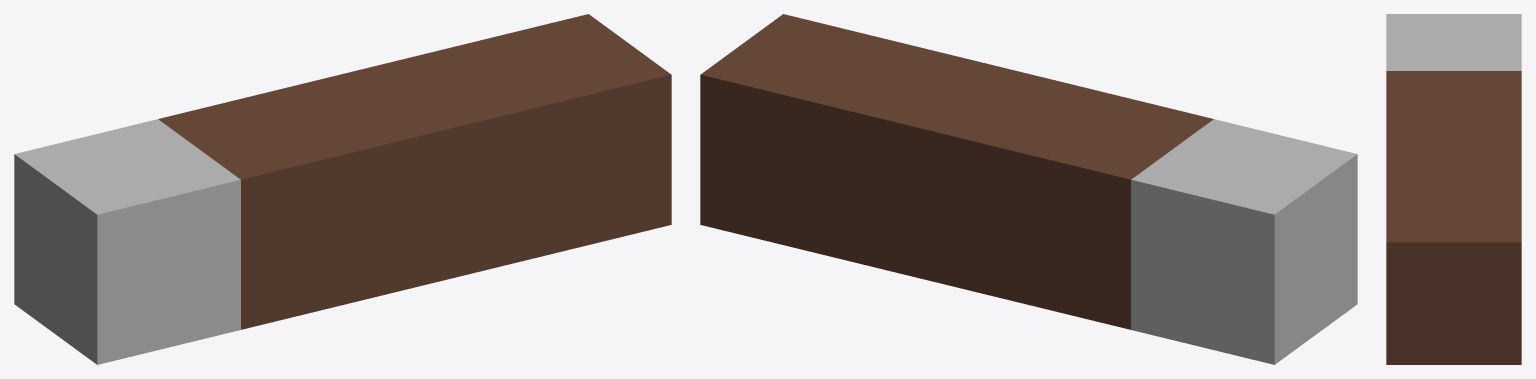
File: Animals-31.obj
The picture shows the model from 3 angles, left to right: view 1: azimuth 30°, elevation 25°; view 2: azimuth 150°, elevation 25°; view 3: azimuth 270°, elevation 25°; orthographic projection. The views are drawn at different scales.
Size of the model in its own units: 0.4 by 0.1 by 0.1.
Materials: 1 (1 with a texture image).
